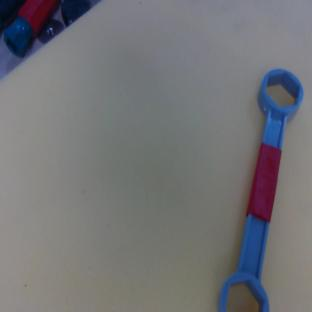part_3_good: (217, 65, 307, 312)
